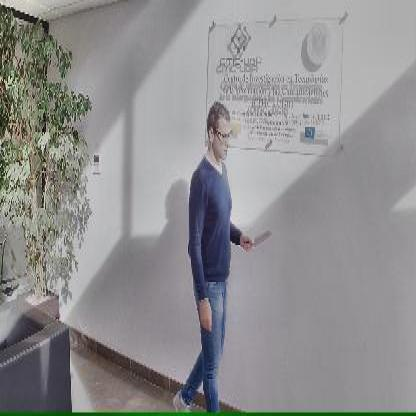knife: (240, 228, 274, 248)
